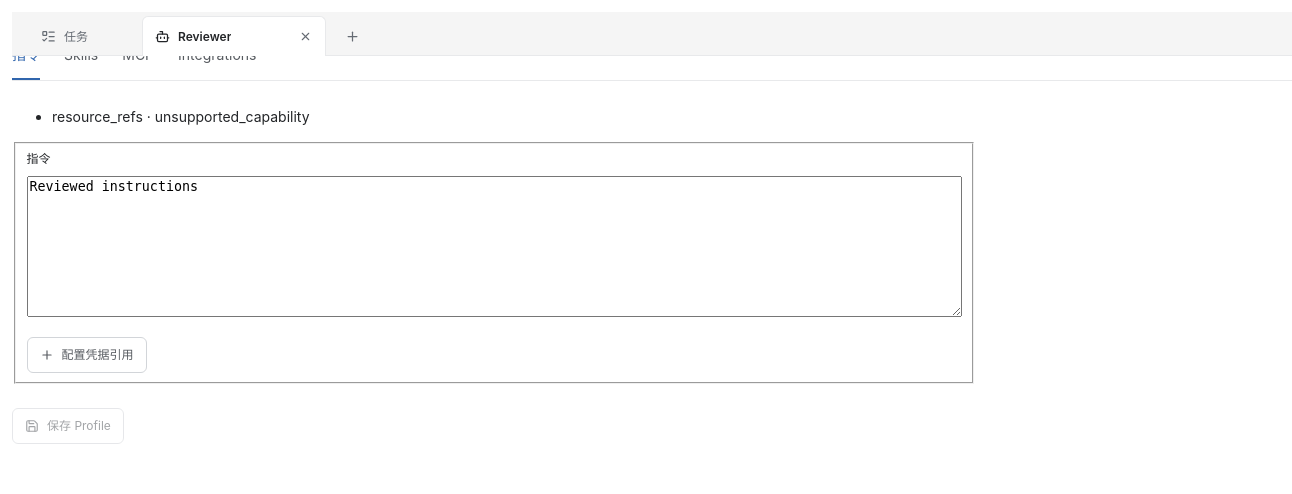
it: independent resources and immutable Profile capability bindings › saves instructions as a full original Profile revision, not a resource write
The image size is (1292, 494).
Type " updated" into the text box labelled "指令" at (494, 246), box [26,176,962,317]
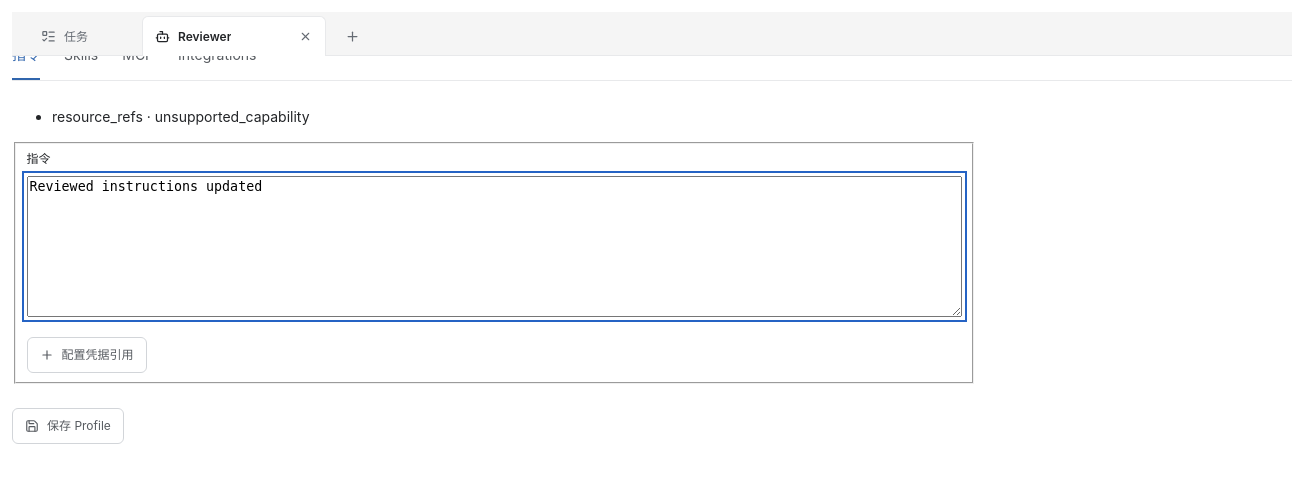
Click the button "保存 Profile" at (68, 426), box [12,408,124,444]
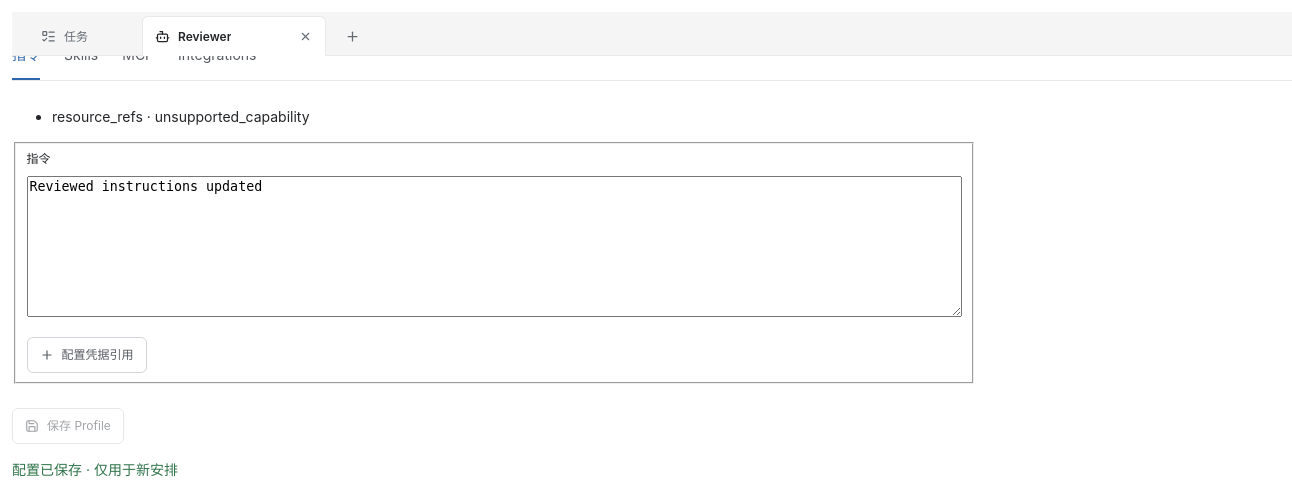
Result: the text "配置已保存 · 仅用于新安排" is shown at [12,461,178,478]
